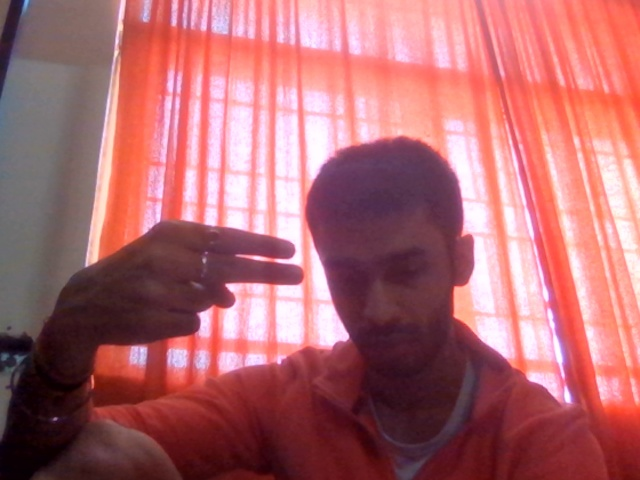H: (30, 177, 310, 402)
